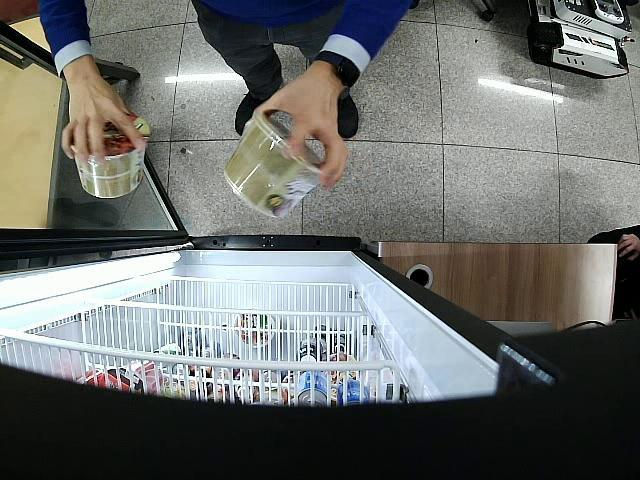03_chapagetti_L: (225, 113, 324, 218), (72, 113, 150, 197)
